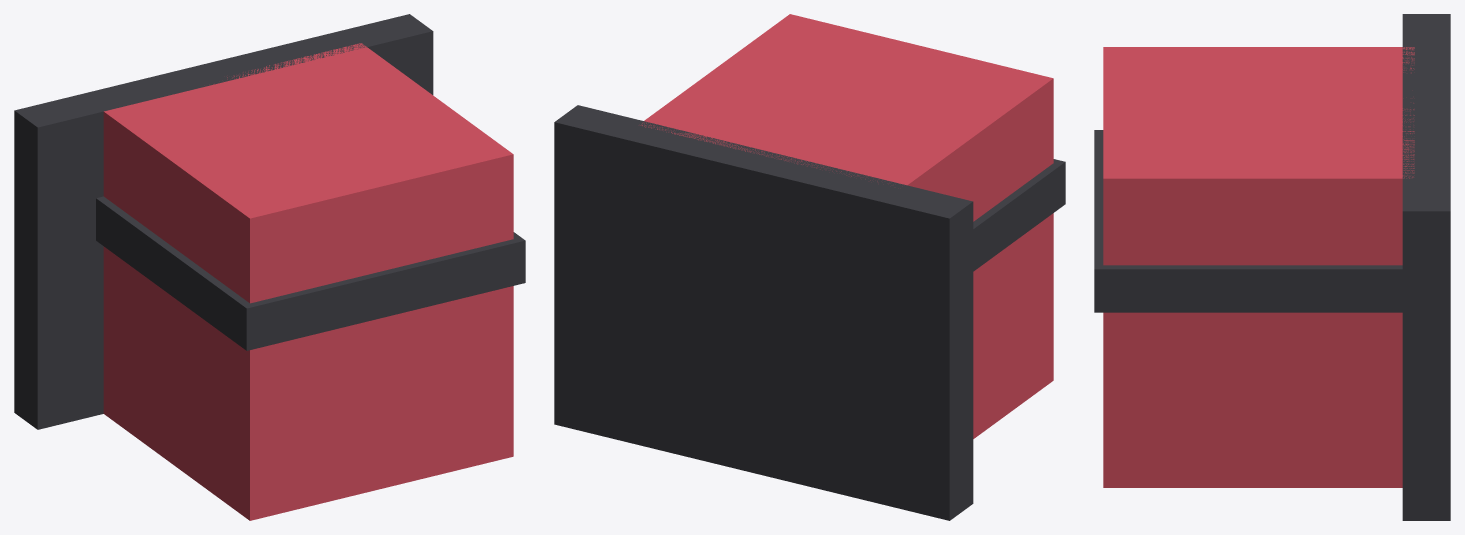
Rendered from punk_canela.glb.
The picture shows the model from 3 angles, left to right: view 1: azimuth 30°, elevation 25°; view 2: azimuth 150°, elevation 25°; view 3: azimuth 270°, elevation 25°; orthographic projection. The views are drawn at different scales.
Parts seen in each view (by area): view 1: punk_canela; view 2: punk_canela; view 3: punk_canela.
Part boxes in pixels (x1=…): punk_canela: x1=14, y1=14, x2=525, y2=520; punk_canela: x1=554, y1=14, x2=1065, y2=520; punk_canela: x1=1094, y1=14, x2=1450, y2=520.
Bounding box in the file's own units: 0.39 × 0.285 × 0.2975.
